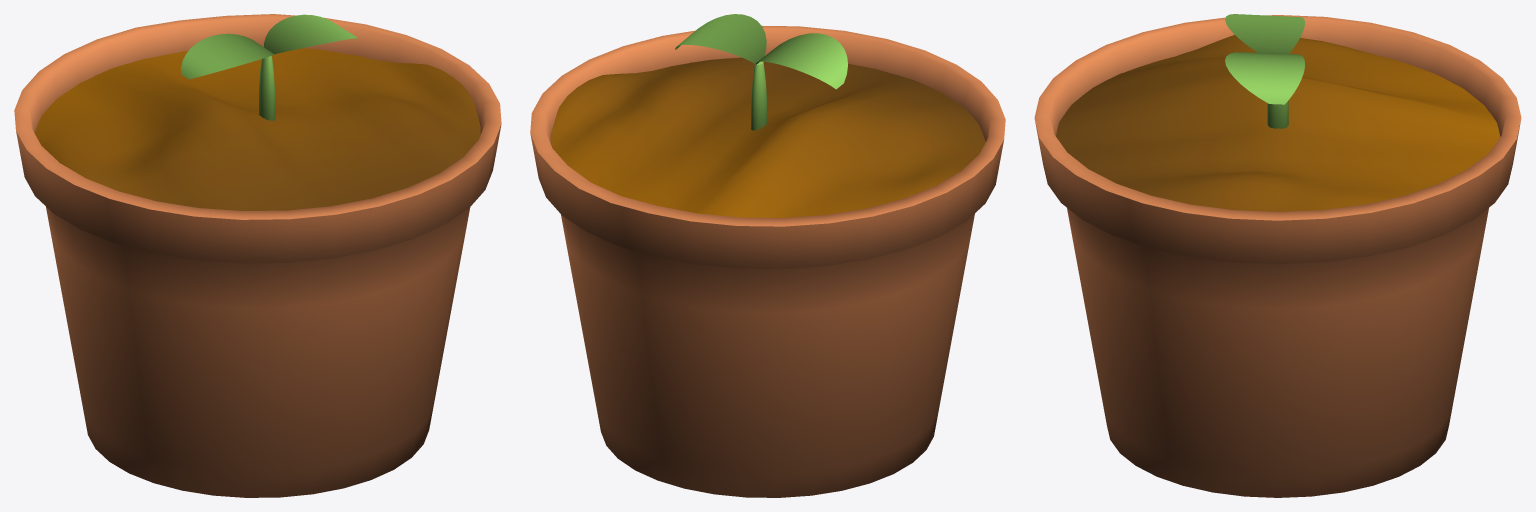
The model's file is Pot1.fbx.
3 views of the same model, side by side, from view 1: azimuth 30°, elevation 25°; view 2: azimuth 150°, elevation 25°; view 3: azimuth 270°, elevation 25° (orthographic). The views are drawn at different scales.
Visible parts, largest first — view 1: Pot, Dirt, Sapling; view 2: Pot, Dirt, Sapling; view 3: Pot, Dirt, Sapling.
Part boxes in pixels (bbox=[...]): Pot: bbox=[14, 14, 501, 497]; Dirt: bbox=[34, 46, 480, 210]; Sapling: bbox=[181, 14, 357, 120]; Pot: bbox=[530, 25, 1005, 497]; Dirt: bbox=[550, 57, 985, 217]; Sapling: bbox=[675, 14, 847, 130]; Pot: bbox=[1034, 15, 1521, 497]; Dirt: bbox=[1056, 35, 1500, 211]; Sapling: bbox=[1225, 14, 1304, 128].
Bounding box in the file's own units: 285 × 251 × 285.
